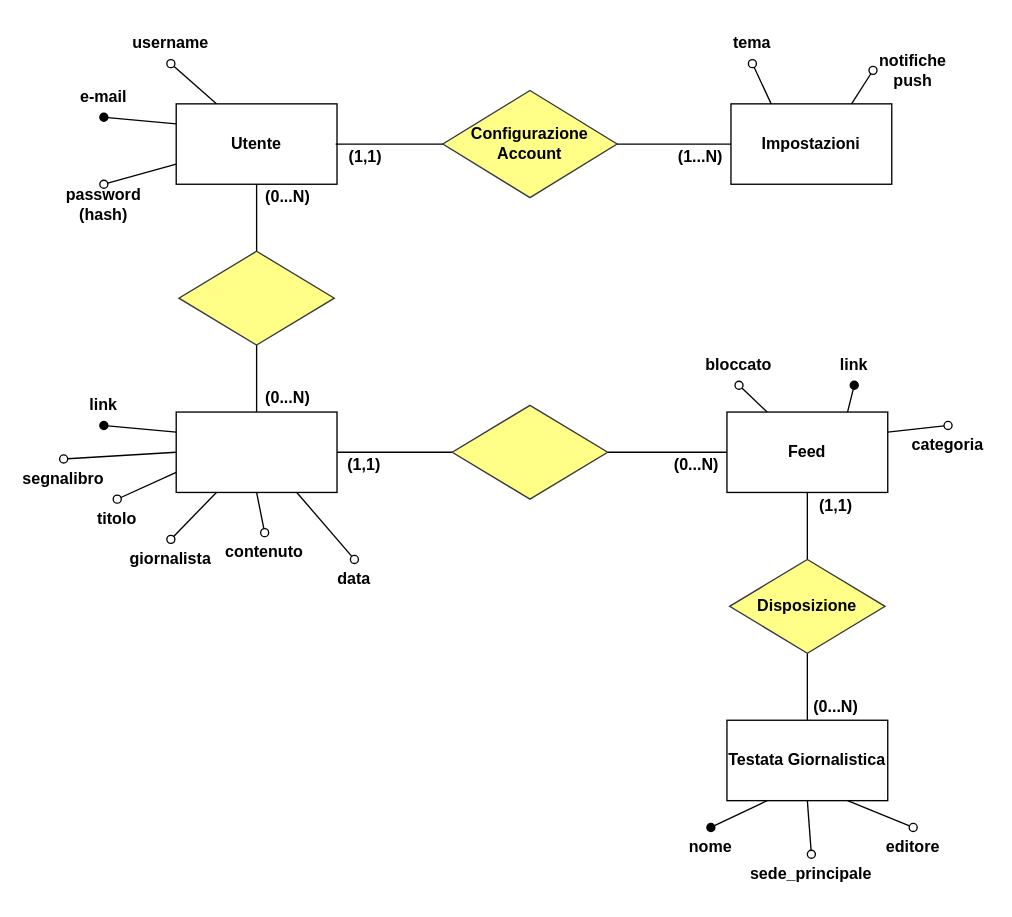
Some shapes in this 1012 by 917 pixel diagram are drawn without their labels. Here are the shapes that lost their labels. From the top down, the centre of each, then its label:
At point (256, 297): "Homepage".
At point (256, 451): "Notizia".
At point (529, 451): "Redazione".
